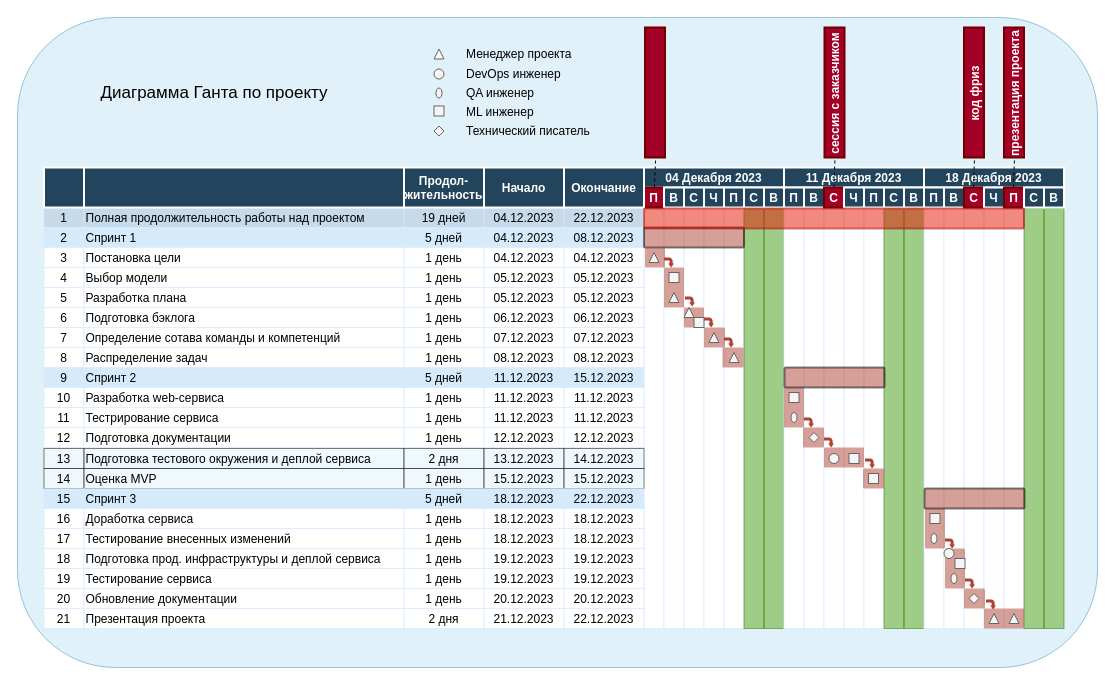
This 1115x685 diagram has some shape labels left out. Each missing label, with the centre of its shape:
"Наименование задачи" belongs at pixel 243 187.
"Начало проекта" belongs at pixel 655 92.
